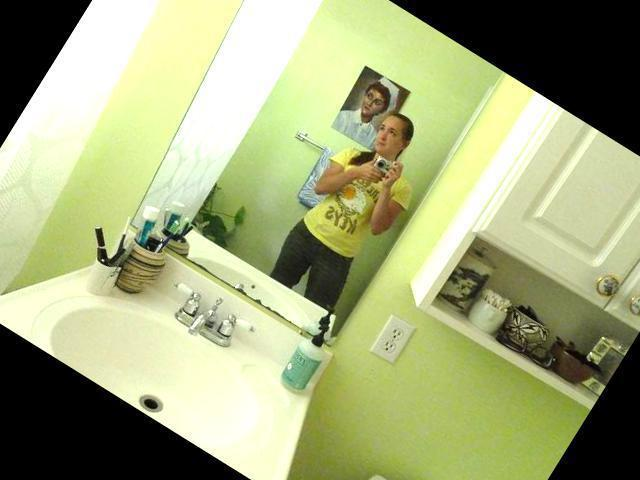Lavamanos: (14, 215, 316, 475)
